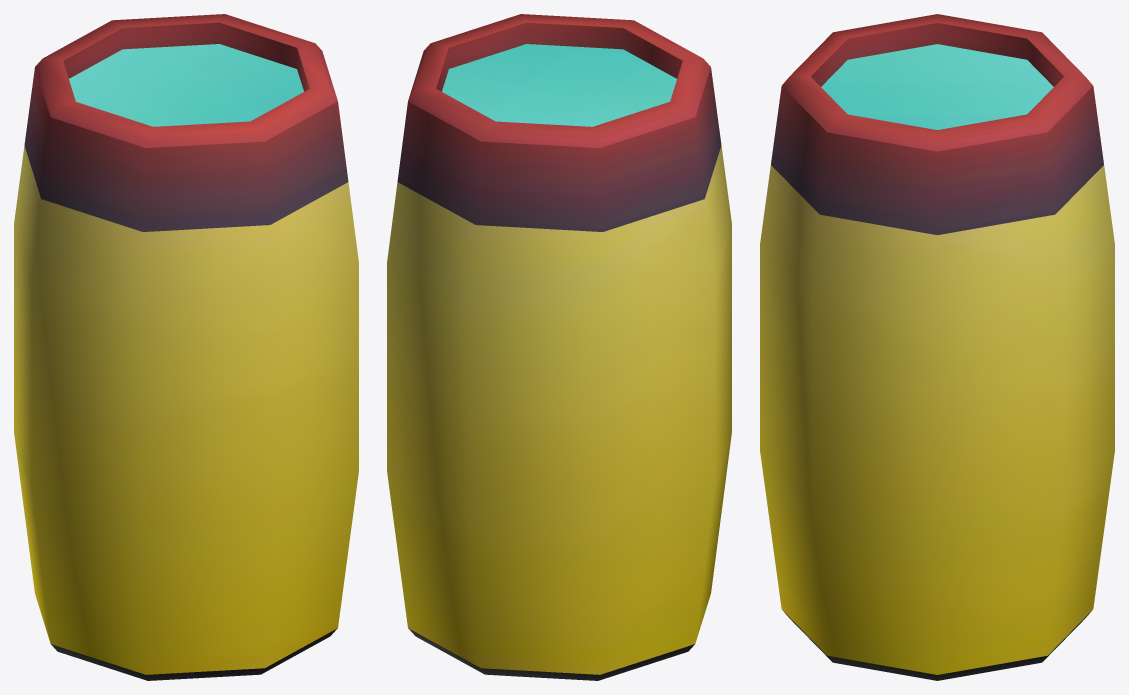
File: lonnuoc.fbx
3 views of the same model, side by side, from view 1: azimuth 30°, elevation 25°; view 2: azimuth 150°, elevation 25°; view 3: azimuth 270°, elevation 25° (orthographic).
Parts seen in each view (by area): view 1: Cylinder.073; view 2: Cylinder.073; view 3: Cylinder.073.
Part boxes in pixels (x1,y1,x2,y2): Cylinder.073: [14, 14, 358, 680]; Cylinder.073: [387, 14, 731, 680]; Cylinder.073: [760, 14, 1114, 680].
Bounding box in the file's own units: 230 × 387 × 230.
